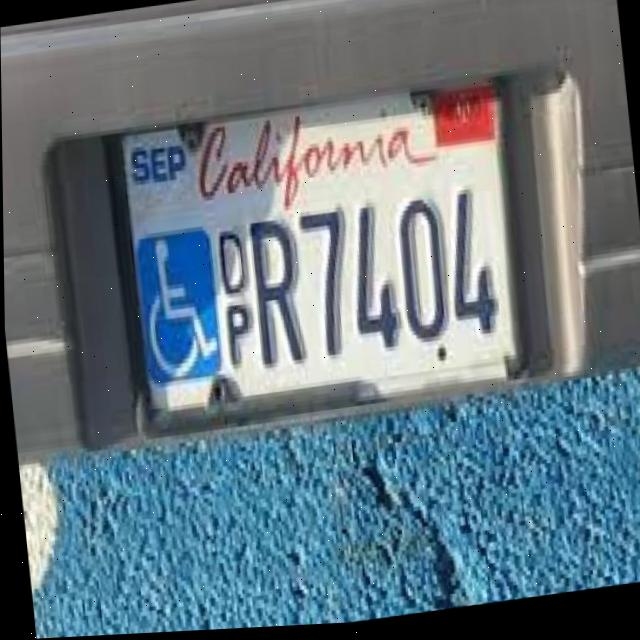symbol_of_access: (132, 229, 224, 387)
